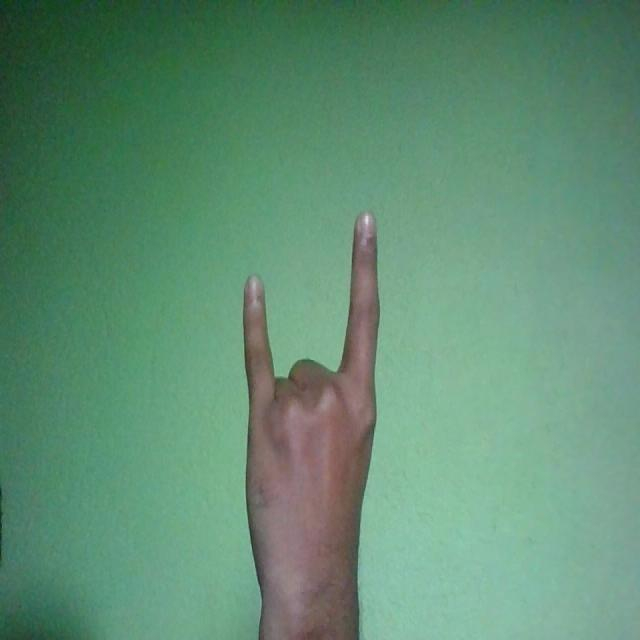open Plam: (243, 209, 381, 621)
